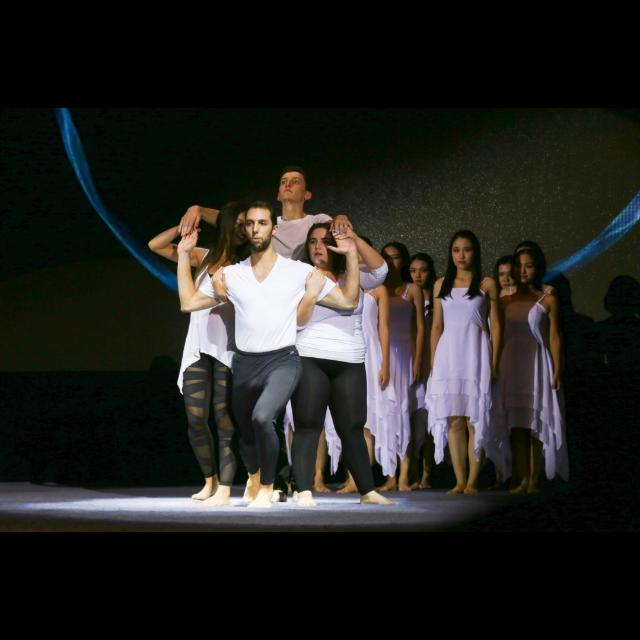head: (243, 202, 280, 252), (306, 223, 344, 267), (276, 168, 314, 205), (223, 201, 253, 247), (451, 230, 482, 270), (512, 248, 540, 284), (344, 235, 374, 268), (380, 242, 408, 276), (516, 240, 544, 274), (408, 252, 434, 288), (496, 255, 520, 291)
person: (176, 164, 358, 502), (173, 197, 364, 511), (145, 198, 277, 506), (282, 220, 398, 510), (489, 248, 577, 500), (426, 227, 504, 499), (327, 232, 405, 498), (487, 236, 565, 494), (356, 239, 428, 496), (387, 252, 453, 494), (479, 252, 545, 470)
